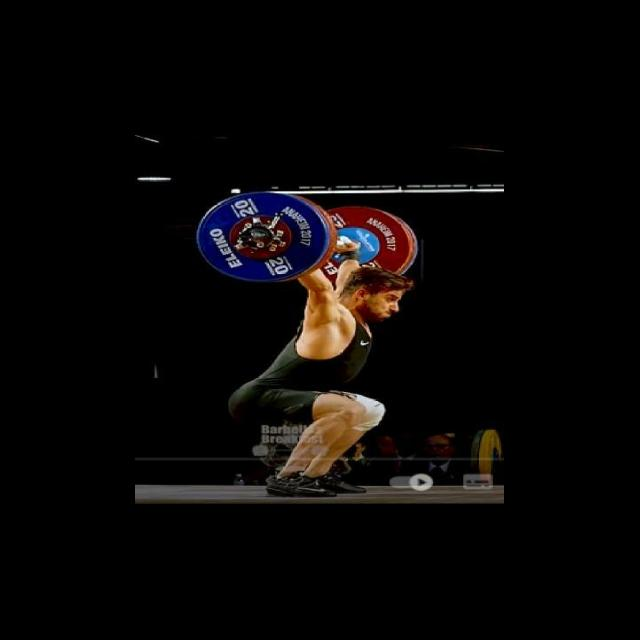barbell: (195, 187, 332, 286)
